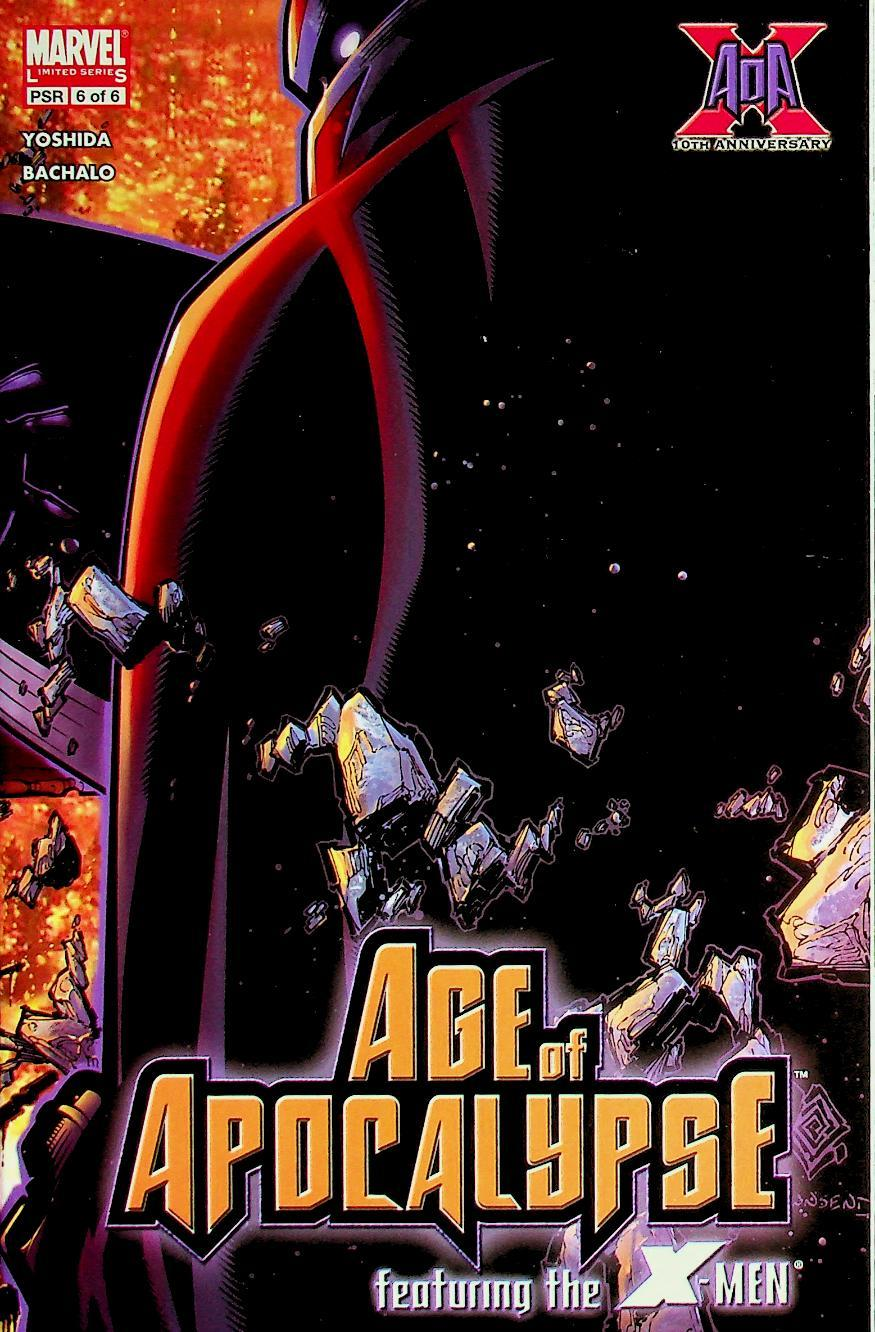comic: (0, 0, 870, 1331)
